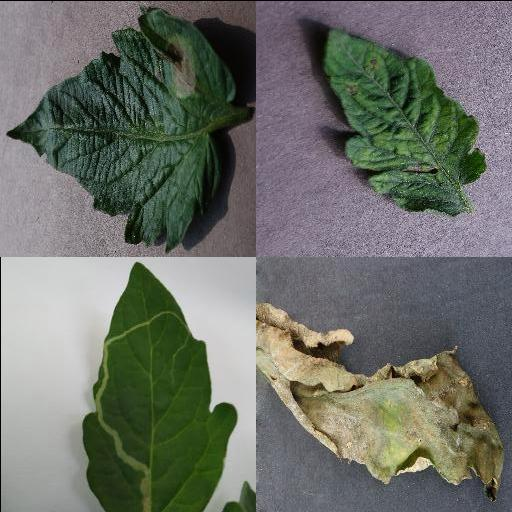Late Blight: (3, 1, 233, 251), (256, 302, 503, 498)
Leaf Miner: (80, 261, 240, 512)
Mosaic Virus: (319, 27, 487, 215)
